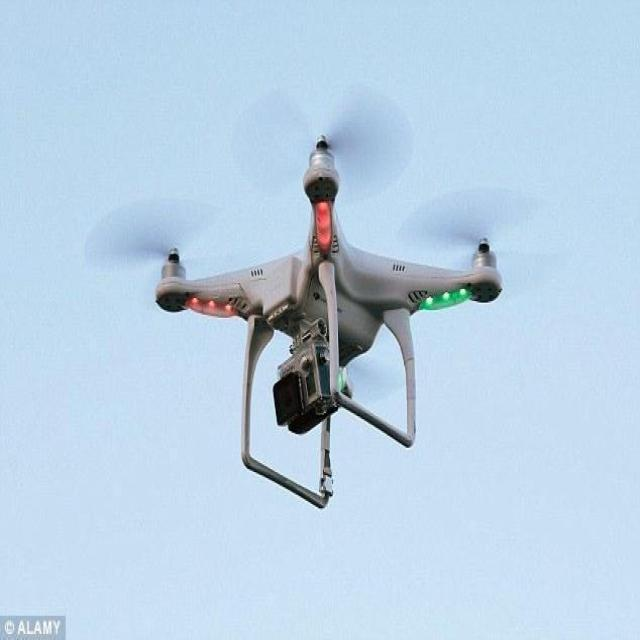drone: (148, 122, 510, 511)
